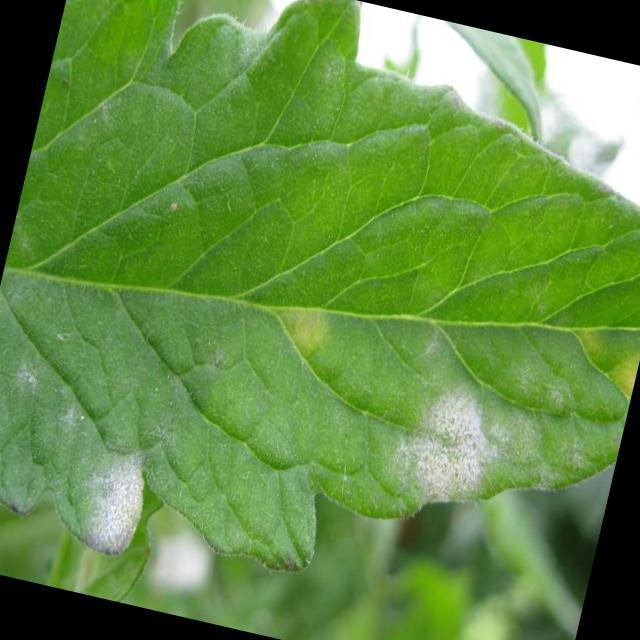Leaf Mold: (1, 147, 640, 640)
